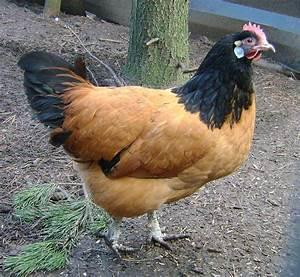hen: (16, 20, 276, 260)
